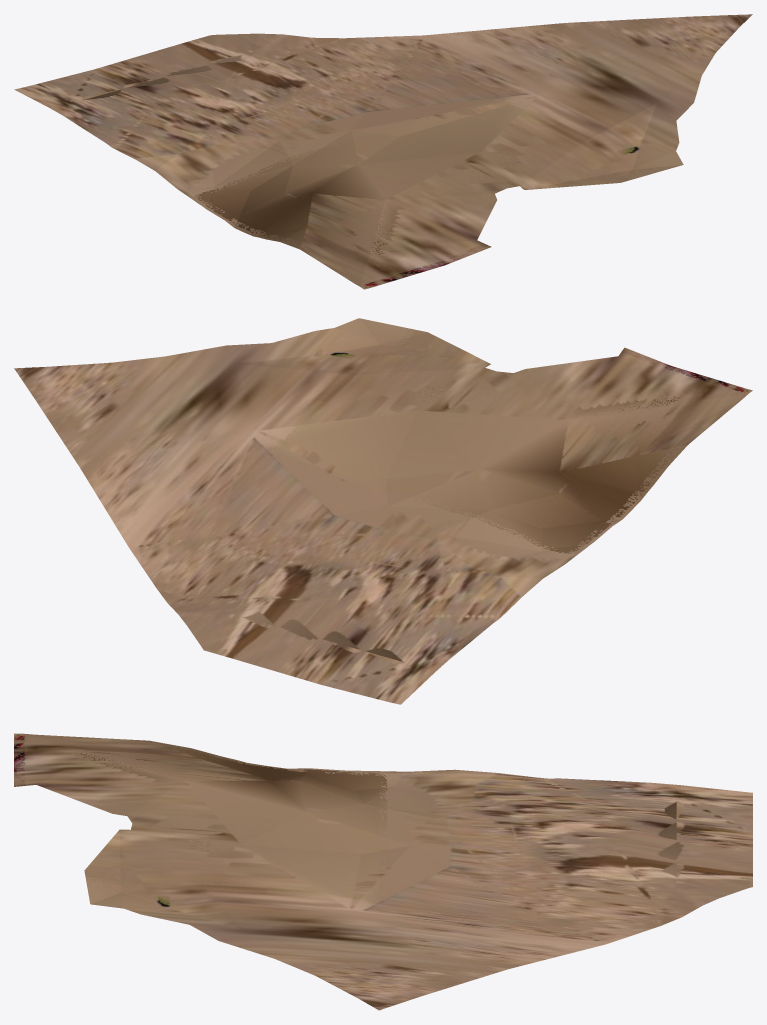
The picture shows the model from 3 angles, top to bottom: view 1: azimuth 30°, elevation 25°; view 2: azimuth 150°, elevation 25°; view 3: azimuth 270°, elevation 25°; orthographic projection. The views are drawn at different scales.
Bounding box in the file's own units: 1.93 × 0.224 × 2.09.
2 materials, 2 textured.
